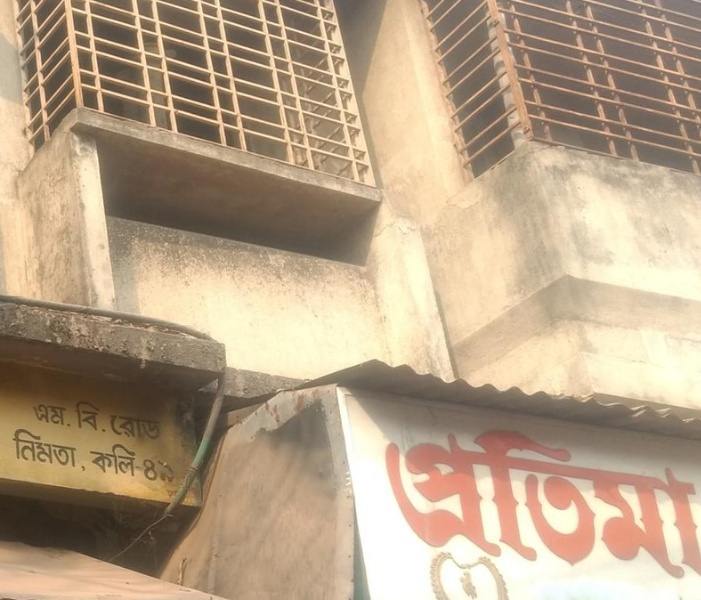text: (369, 406, 384, 581), (385, 406, 400, 581), (401, 406, 416, 581), (417, 406, 432, 581), (433, 406, 448, 581), (449, 406, 464, 581), (465, 406, 480, 581), (481, 406, 496, 581), (497, 406, 512, 581), (513, 406, 528, 581), (529, 406, 544, 581), (545, 406, 560, 581), (561, 406, 576, 581), (577, 406, 592, 581), (593, 406, 608, 581), (609, 406, 624, 581), (625, 406, 640, 581), (641, 406, 656, 581), (657, 406, 672, 581), (673, 406, 688, 581), (689, 406, 701, 581), (17, 428, 32, 468), (33, 428, 48, 468), (49, 428, 64, 468), (97, 439, 112, 477), (113, 439, 128, 477), (65, 428, 77, 468), (81, 401, 96, 431), (113, 414, 128, 442), (129, 414, 144, 442), (145, 414, 160, 442), (145, 458, 160, 485), (161, 458, 176, 485), (366, 406, 368, 581), (33, 403, 48, 426), (49, 403, 64, 426), (129, 439, 138, 477), (89, 439, 96, 477), (73, 401, 80, 431), (12, 428, 16, 468), (97, 401, 101, 431), (161, 414, 165, 442), (140, 458, 144, 485), (109, 414, 112, 442), (65, 403, 66, 426)
